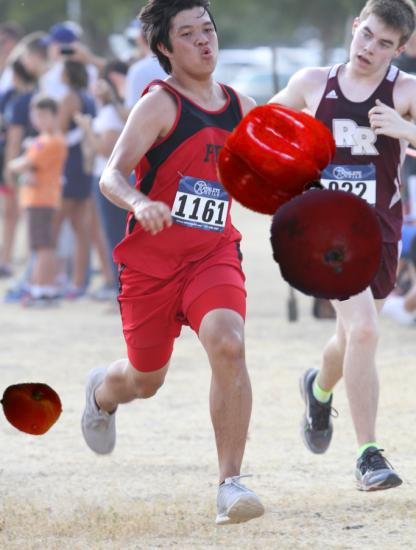Nectarine: (0, 377, 63, 440)
Pepper: (217, 100, 338, 221)
Pomegranate: (269, 187, 385, 303)
